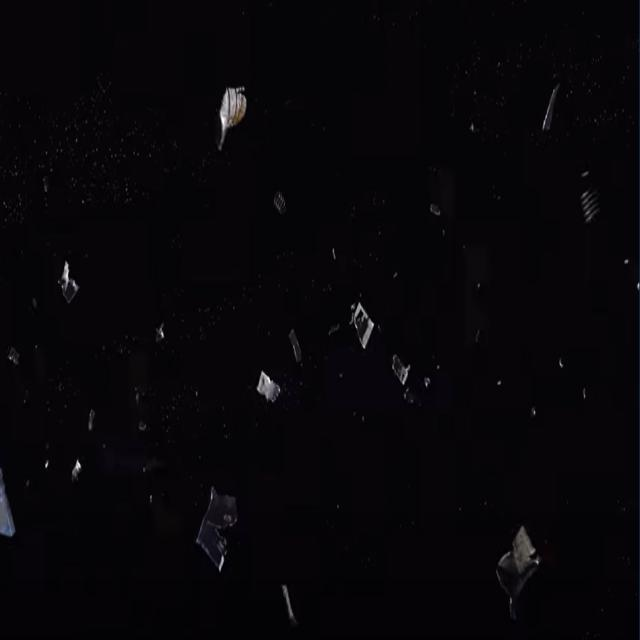large_debris: (489, 513, 549, 625), (190, 482, 243, 585), (209, 61, 261, 160), (318, 288, 378, 367), (245, 353, 288, 420), (570, 157, 606, 232), (52, 436, 84, 513), (276, 571, 311, 640), (537, 72, 567, 152), (386, 338, 414, 399), (51, 253, 82, 307), (284, 316, 308, 372), (269, 190, 289, 223)
